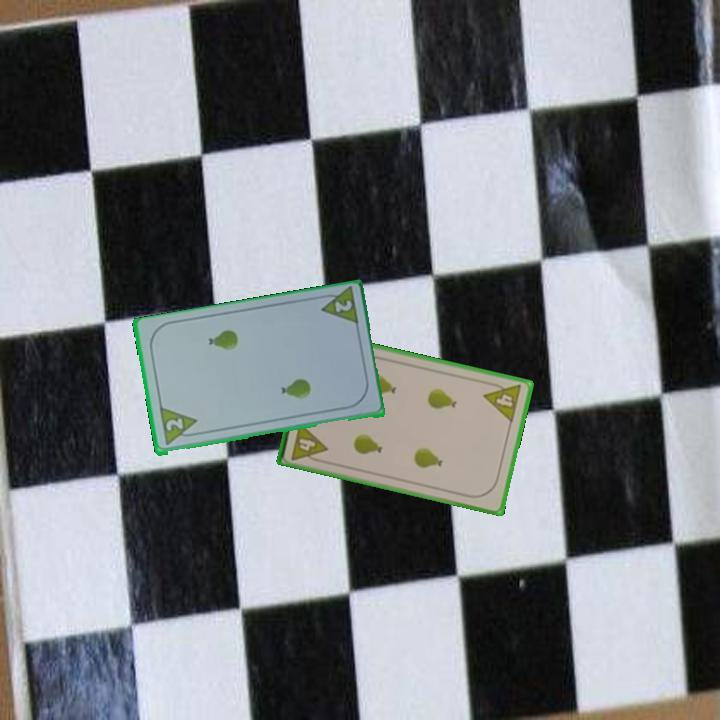2p: (162, 415, 186, 434), (331, 297, 355, 316)
4p: (480, 378, 525, 425), (287, 419, 330, 466)
